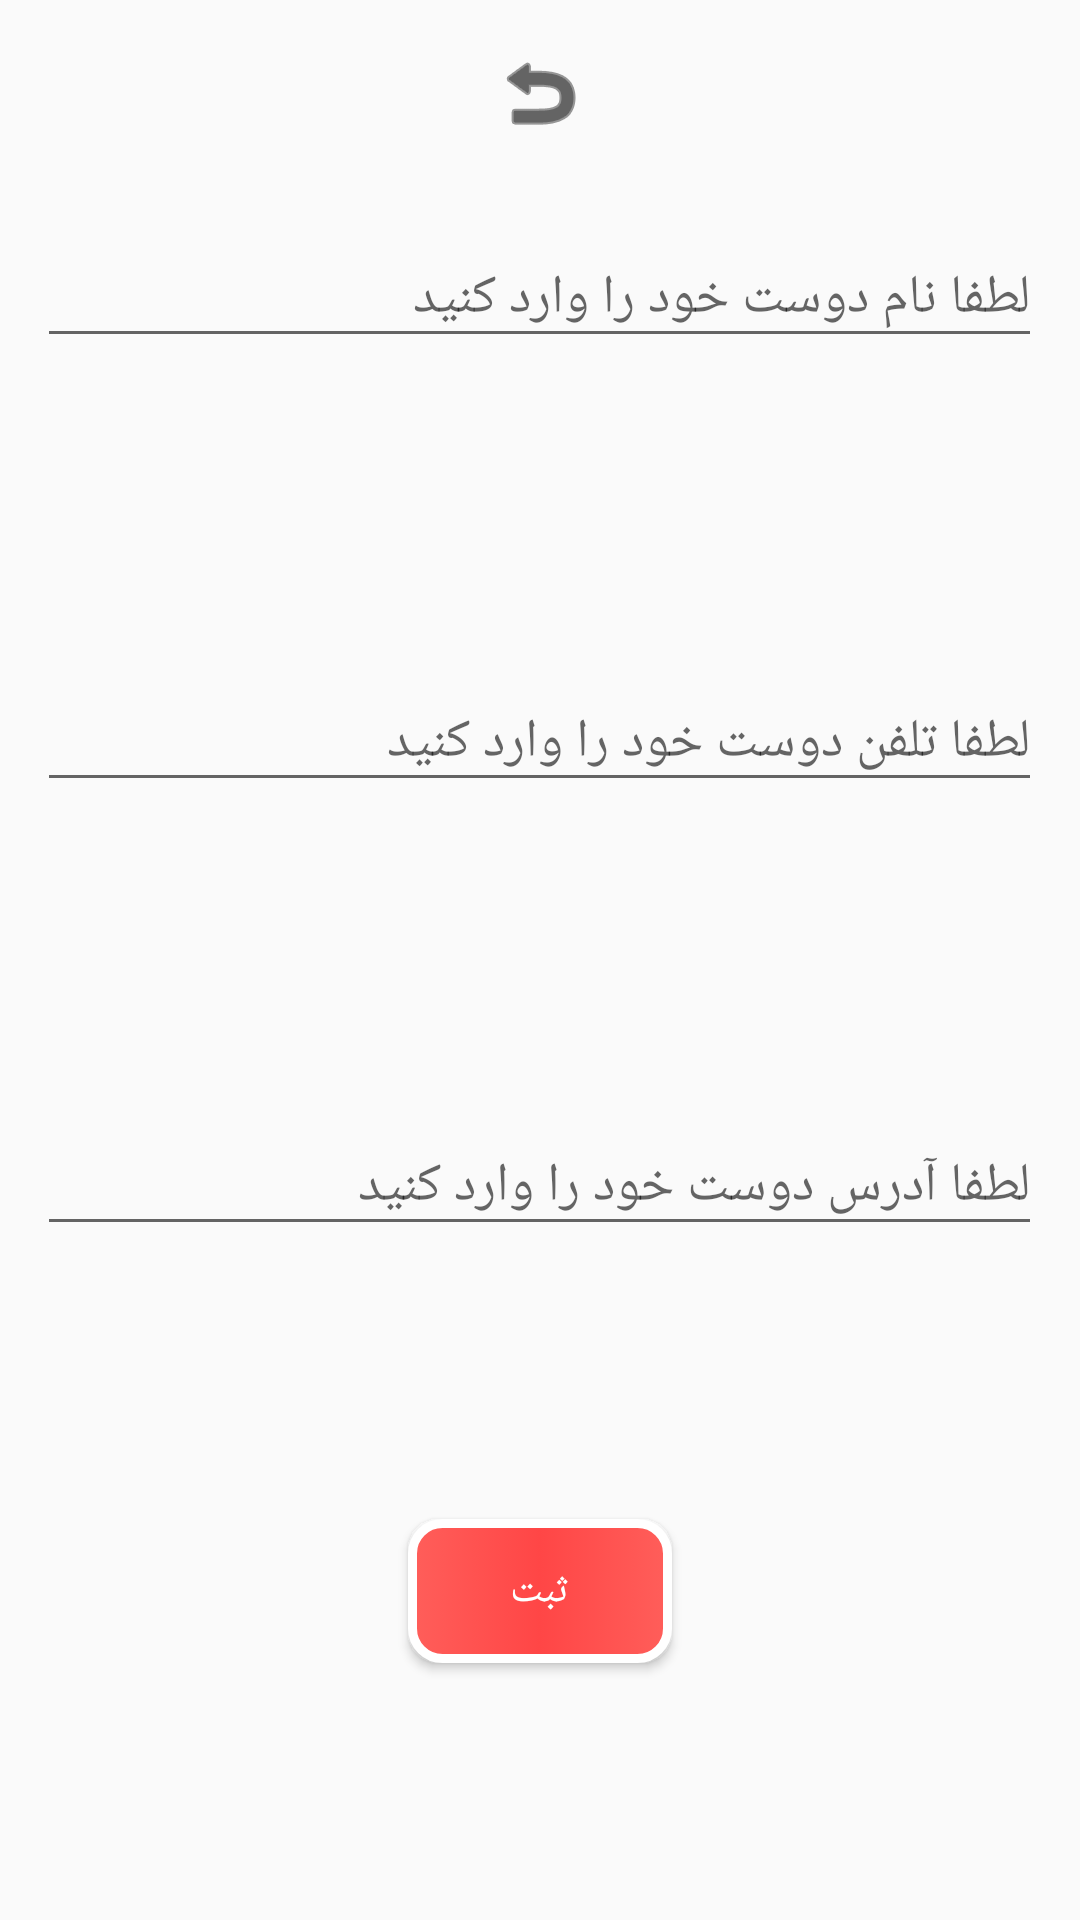

Named icons in this screenshot (1080 × 1920) and their centers, point (x, y):
revert: point (541, 93)
